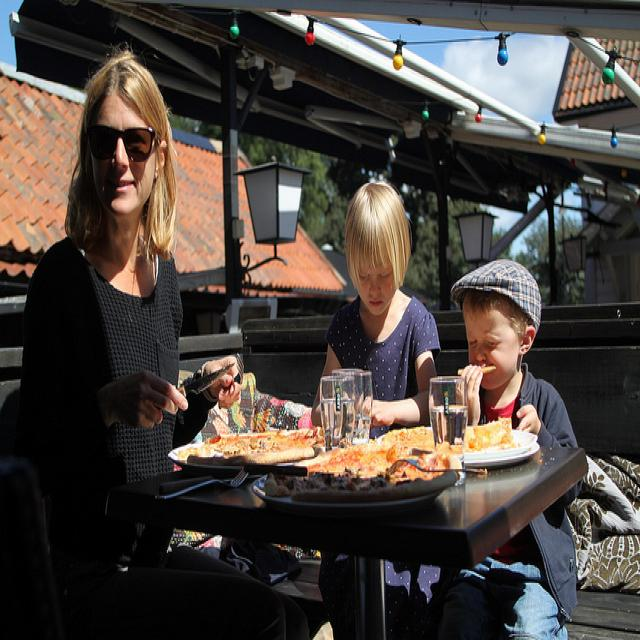chair: (1, 455, 67, 638)
dining table: (117, 370, 590, 632)
